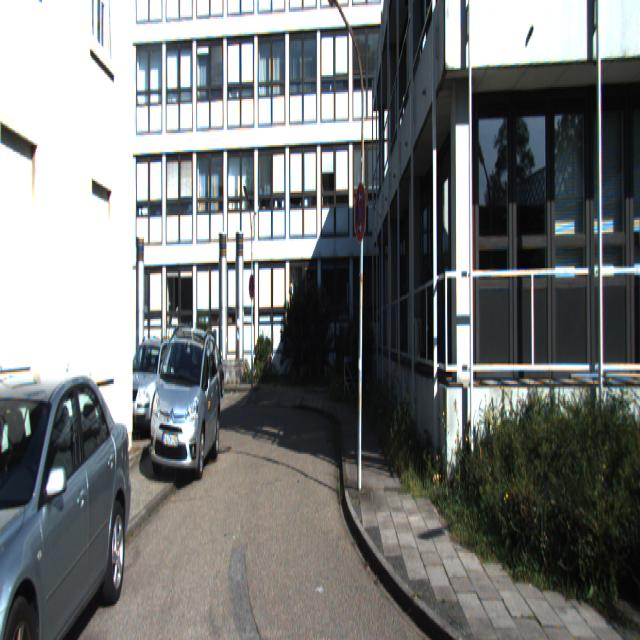Car: (0, 349, 136, 638), (145, 320, 221, 483), (110, 327, 182, 441)
